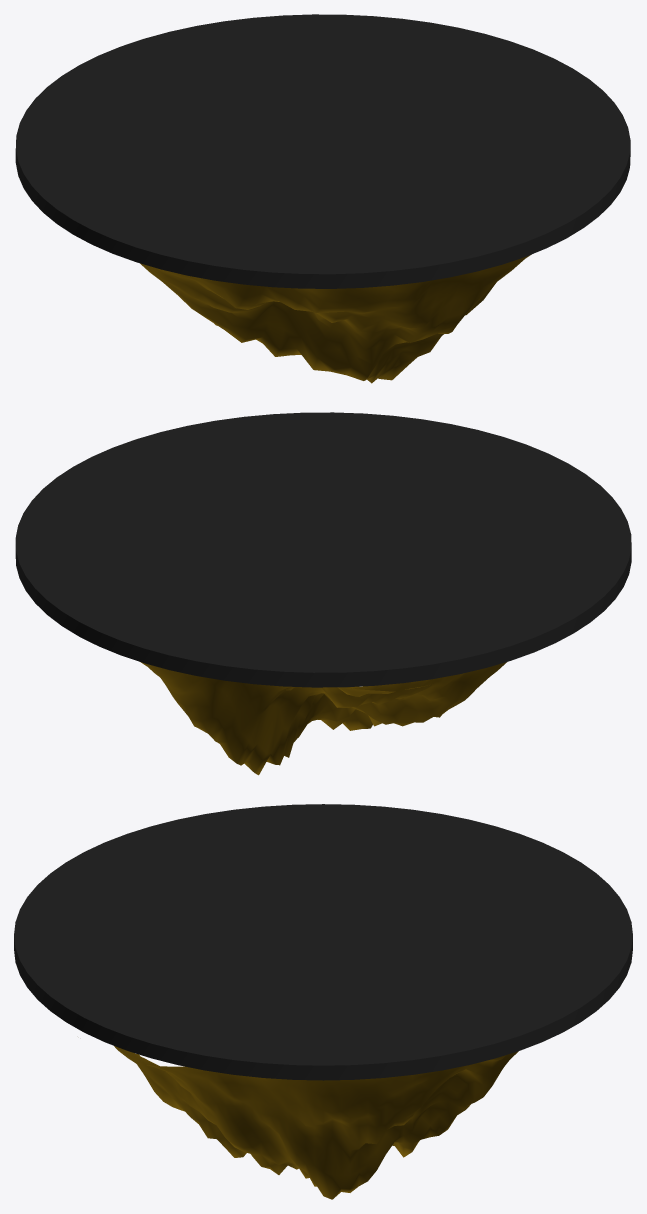
3 views of the same model, one above another, from view 1: azimuth 30°, elevation 25°; view 2: azimuth 150°, elevation 25°; view 3: azimuth 270°, elevation 25° (orthographic).
Parts seen in each view (by area): view 1: Cylinder, Landscape; view 2: Cylinder, Landscape; view 3: Cylinder, Landscape.
Boxes of the visible parts, bbox=[...] form: Cylinder: bbox=[15, 14, 630, 288]; Landscape: bbox=[140, 254, 531, 383]; Cylinder: bbox=[15, 412, 631, 687]; Landscape: bbox=[140, 662, 506, 775]; Cylinder: bbox=[14, 804, 632, 1080]; Landscape: bbox=[114, 1046, 518, 1199].
Size of the model in its own units: 4.9 by 2.01 by 4.9.
